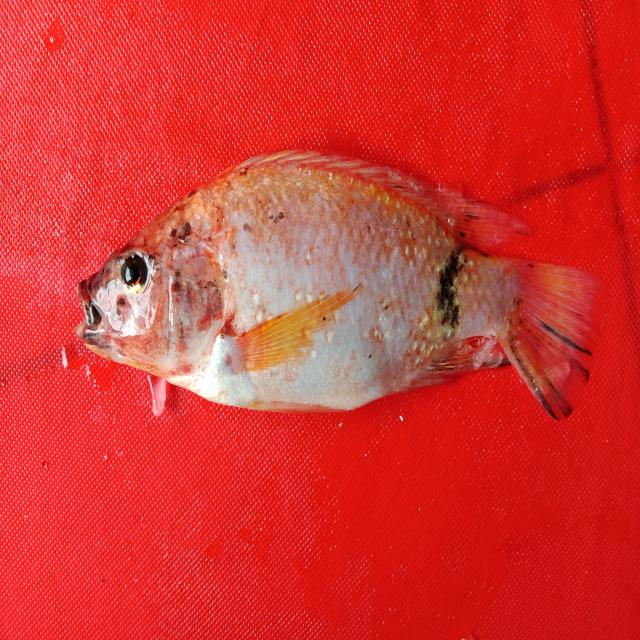ikan: (64, 100, 610, 462)
